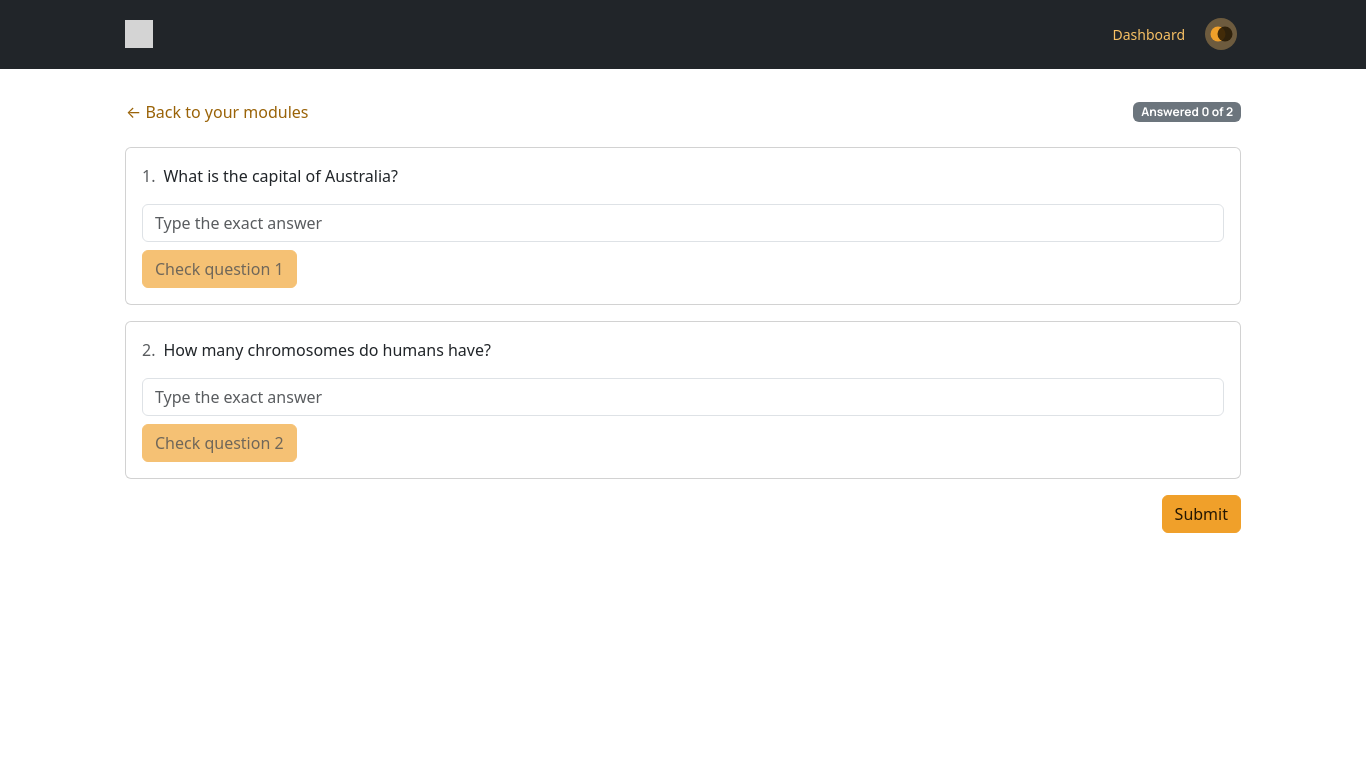
identification page › trusts the server verdict instead of matching case locally
expect the text "What is the capital of Australia?" is shown: met, box x1=164 y1=165 x2=398 y2=187
Type "canberra" into the field named "Answer for question 1".
click(683, 223); type("canberra")  # box x1=142 y1=204 x2=1224 y2=242
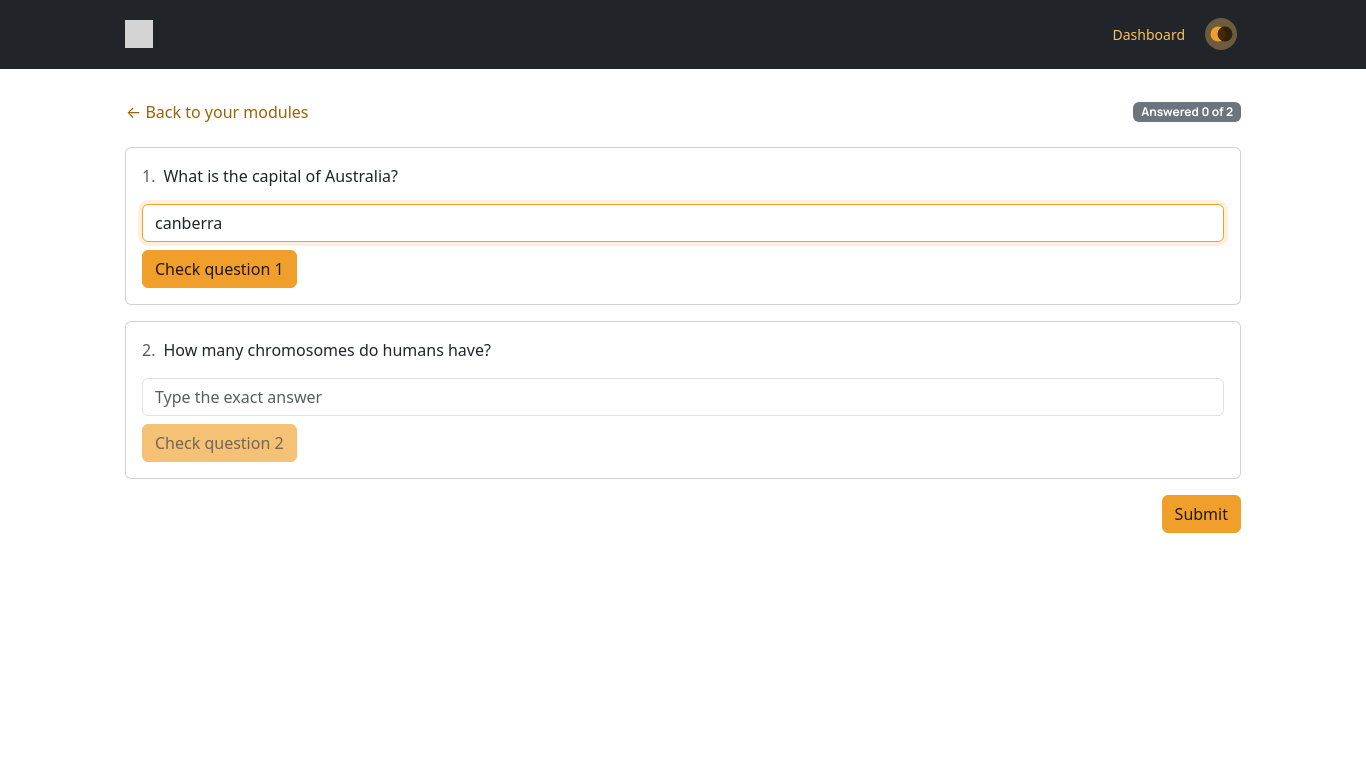
Click the button "Check question 1".
click(219, 269)  # box x1=142 y1=250 x2=297 y2=288
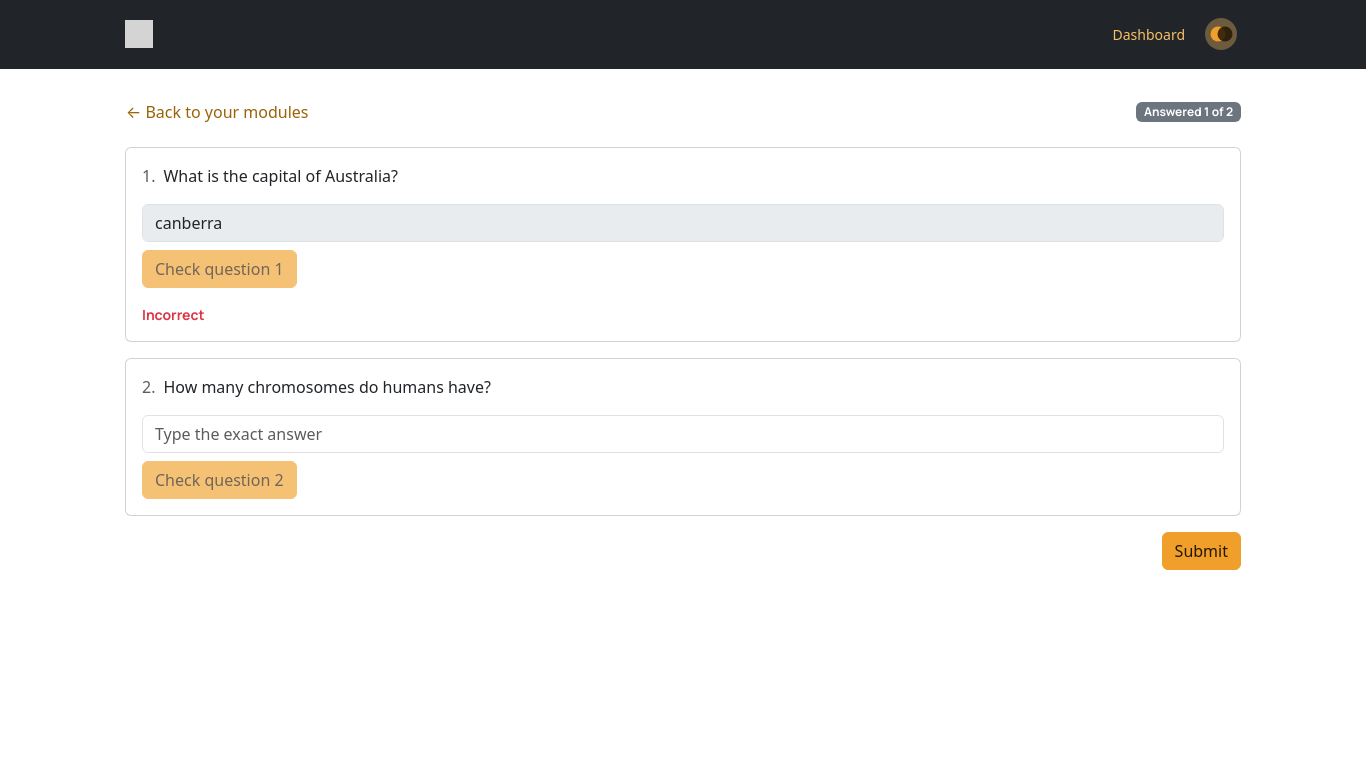
expect the text "Incorrect" is shown: met, box x1=142 y1=305 x2=205 y2=324
